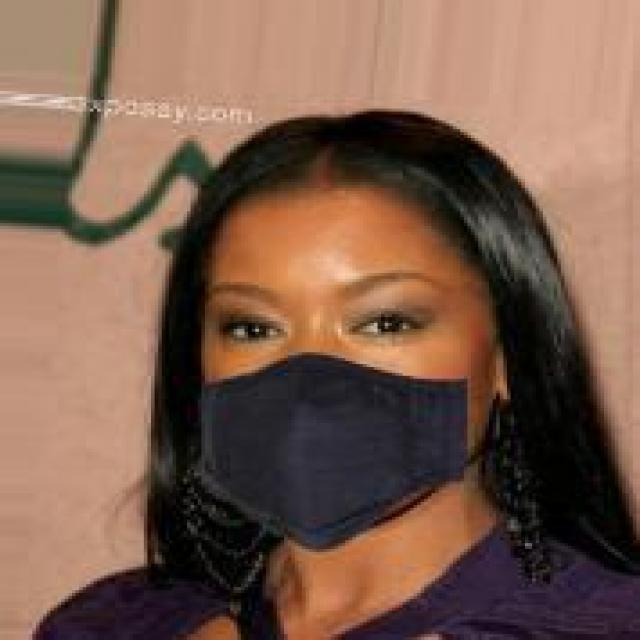mask: (115, 70, 514, 572)
